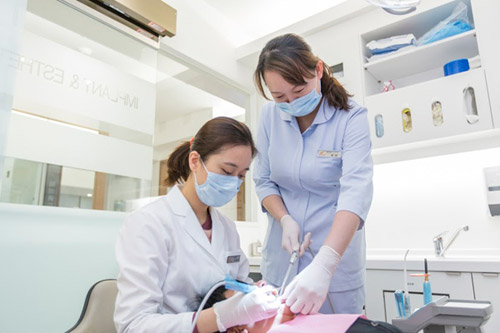mask: (196, 173, 242, 205), (274, 89, 322, 118)
